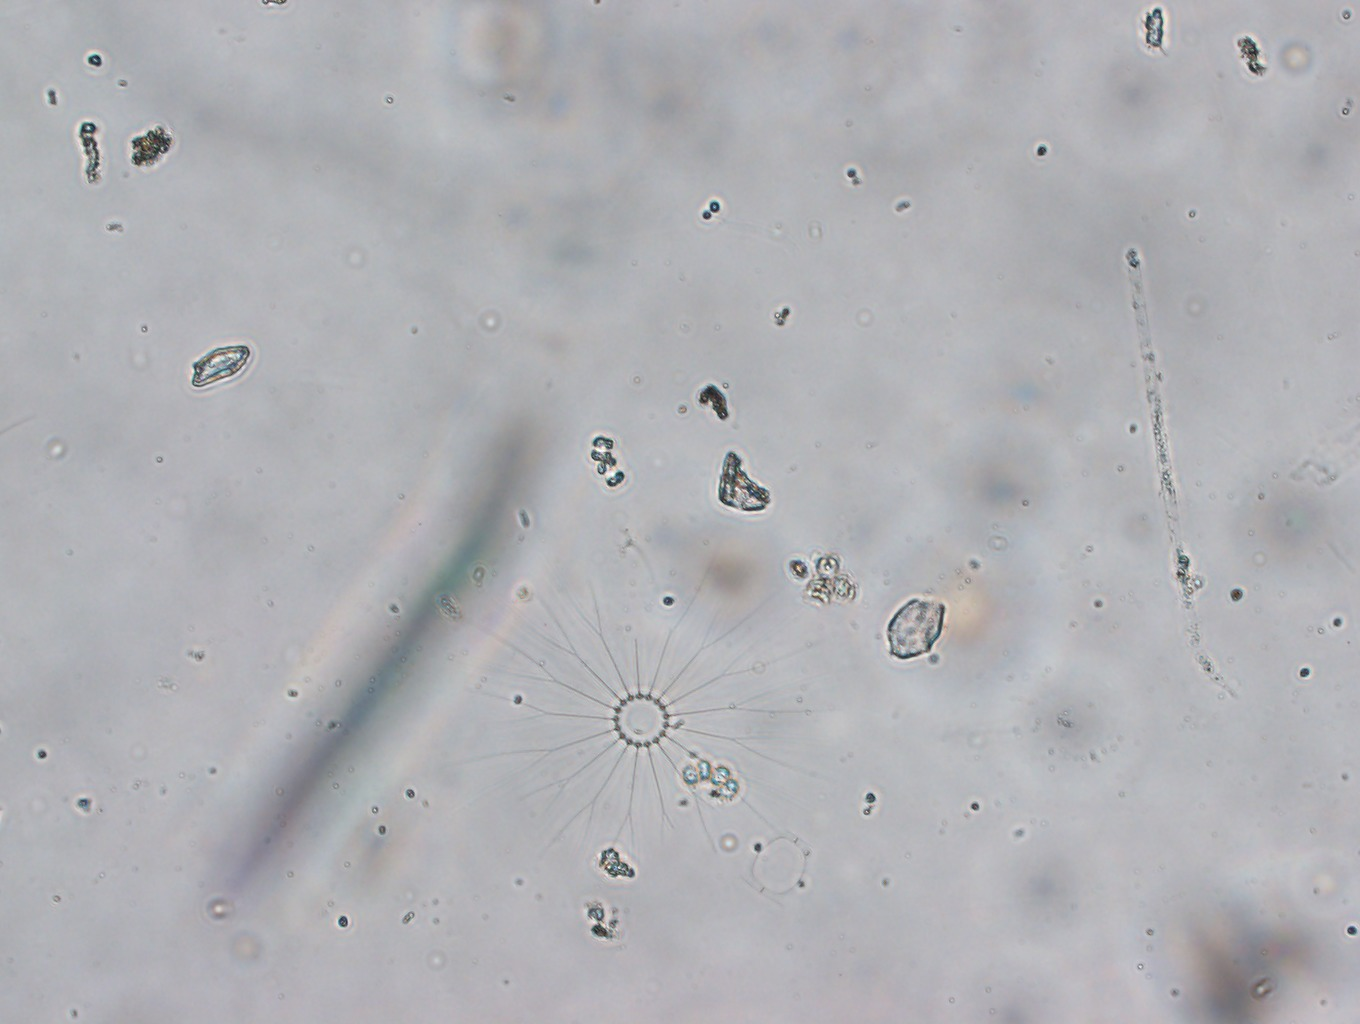bacteriastrum: (476, 553, 819, 874)
